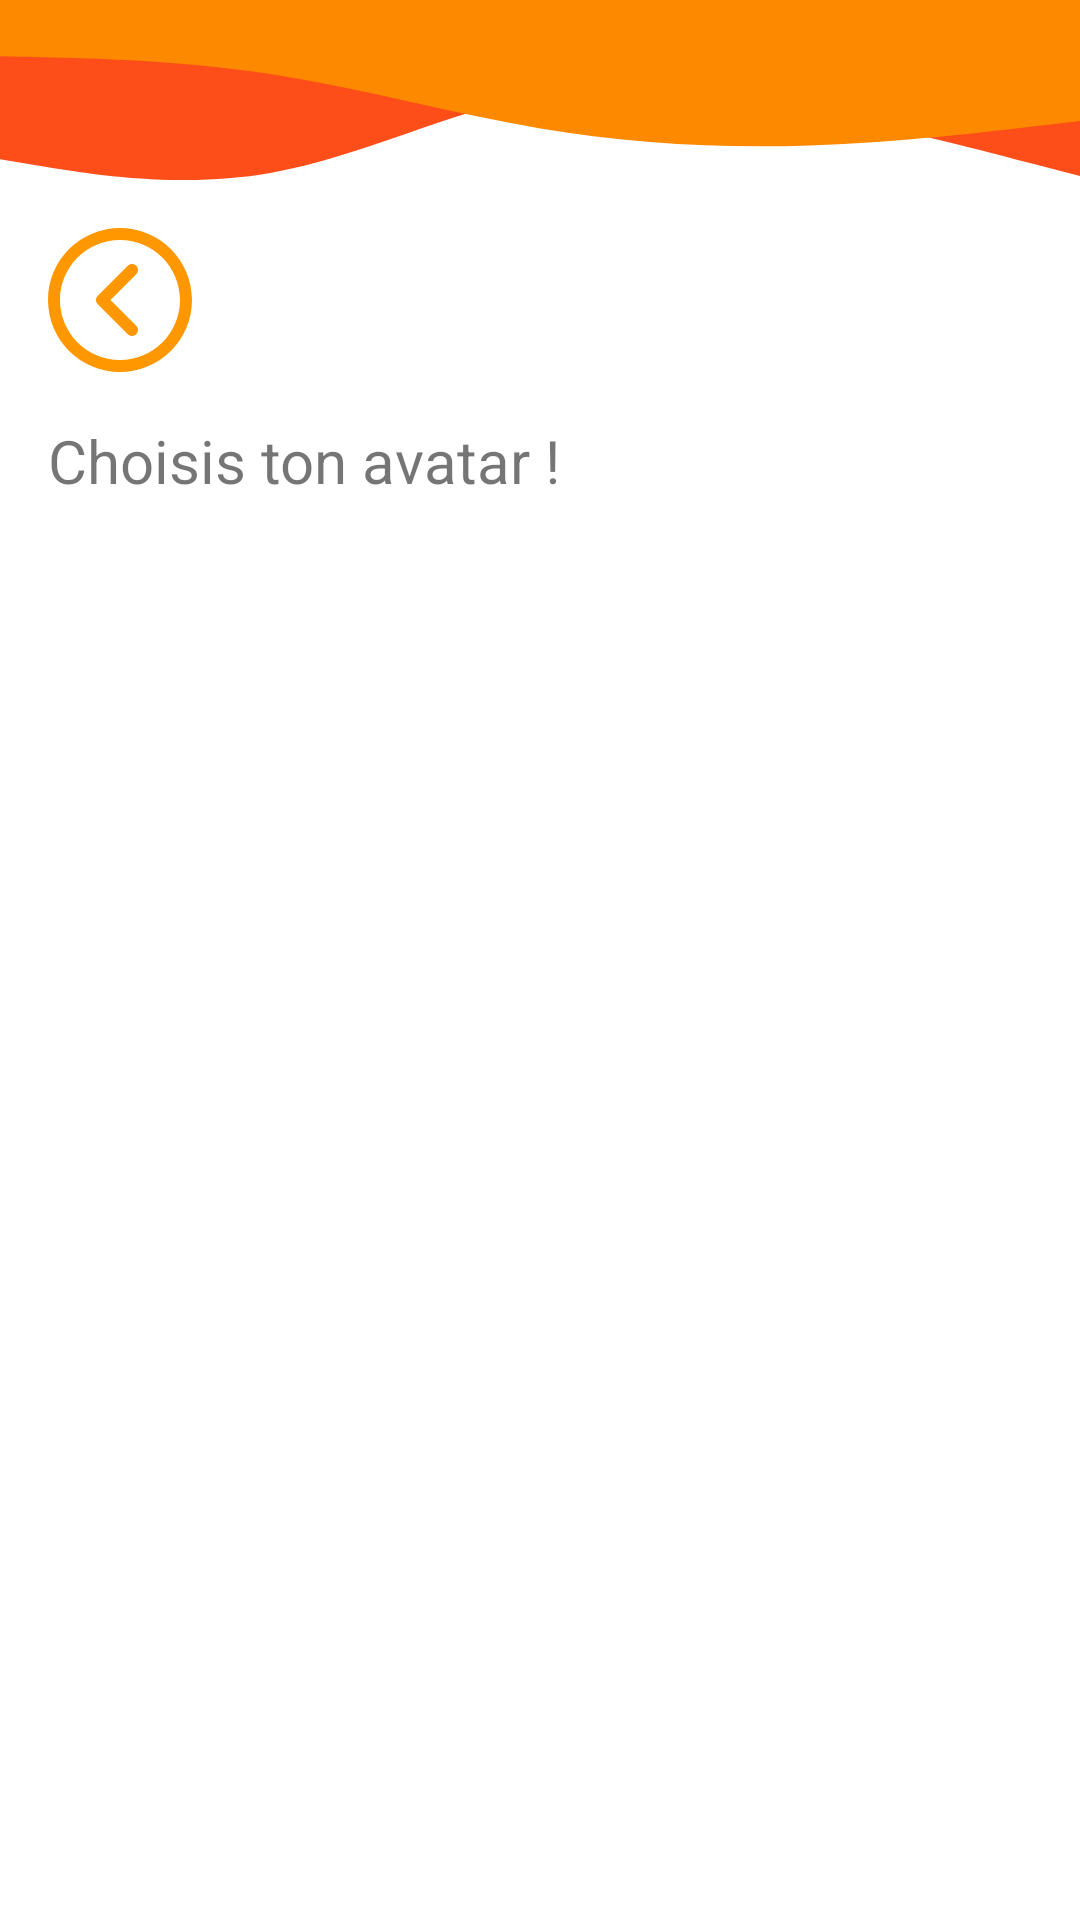

Icons on this 1080 × 1920 Android screen, each with the point to tap as (x,y):
previous: (120,300)
